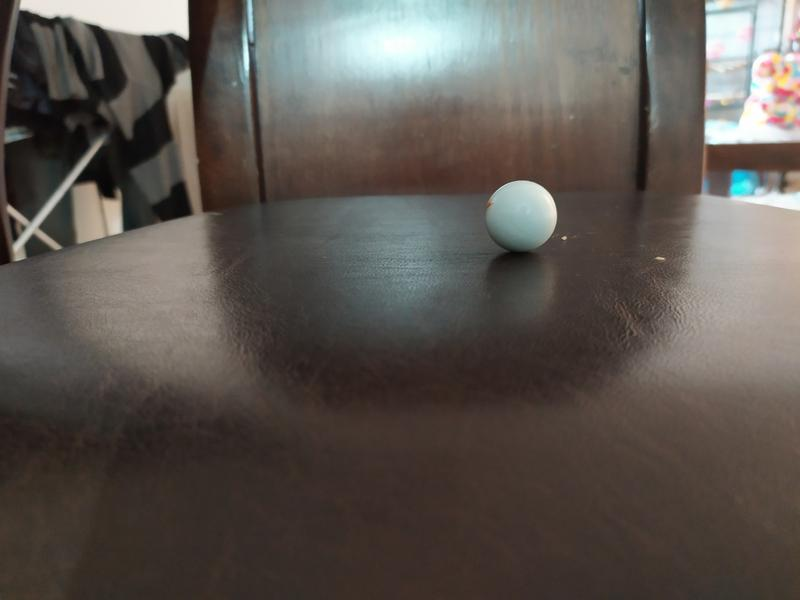Warning: (482, 178, 560, 255)
